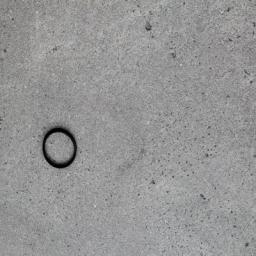FOD: (38, 126, 84, 172)
